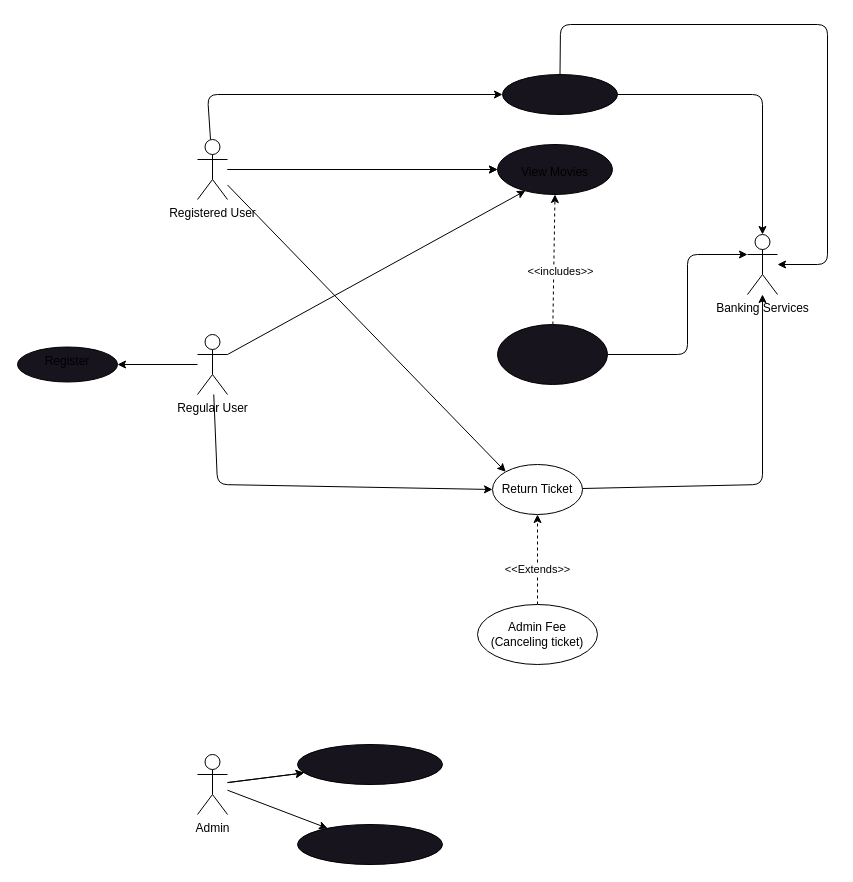
Image size: 853x882. Some labels were removed from this diagram. Here are the shapes that lost their labels. From the top down, the centre of each, then its label:
the point at 560,94: Account fee
the point at 552,354: Make Payment for Ticket
the point at 369,764: Update movie catalog
the point at 369,844: Remove movie
